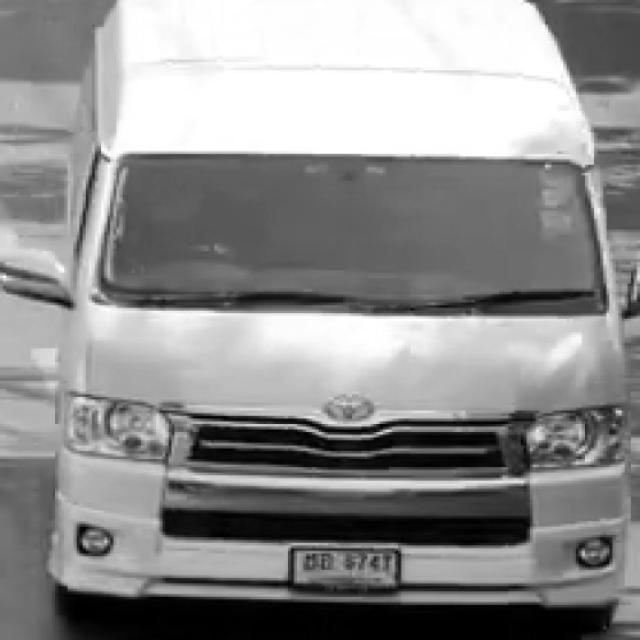plate: (287, 542, 403, 596)
